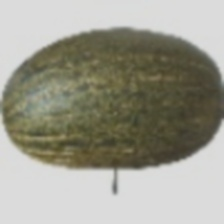honeydew: (18, 40, 201, 181)
